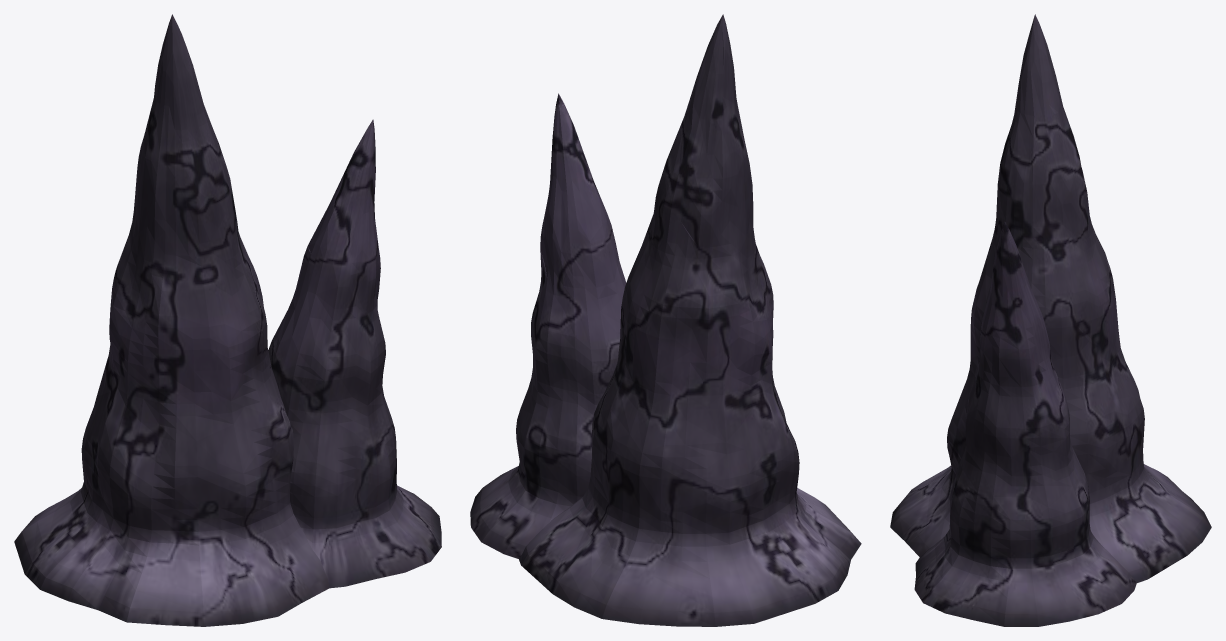
File: estalagmite_b_v01.glb
The picture shows the model from 3 angles, left to right: view 1: azimuth 30°, elevation 25°; view 2: azimuth 150°, elevation 25°; view 3: azimuth 270°, elevation 25°; orthographic projection. The views are drawn at different scales.
Visible parts, largest first — view 1: estalagmite_b; view 2: estalagmite_b; view 3: estalagmite_b.
Part boxes in pixels (x1,y1,x2,y2): estalagmite_b: (14,14,441,626); estalagmite_b: (470,14,861,626); estalagmite_b: (890,14,1211,626).
Size of the model in its own units: 1.43 by 2 by 1.16.
1 material, 1 textured.
